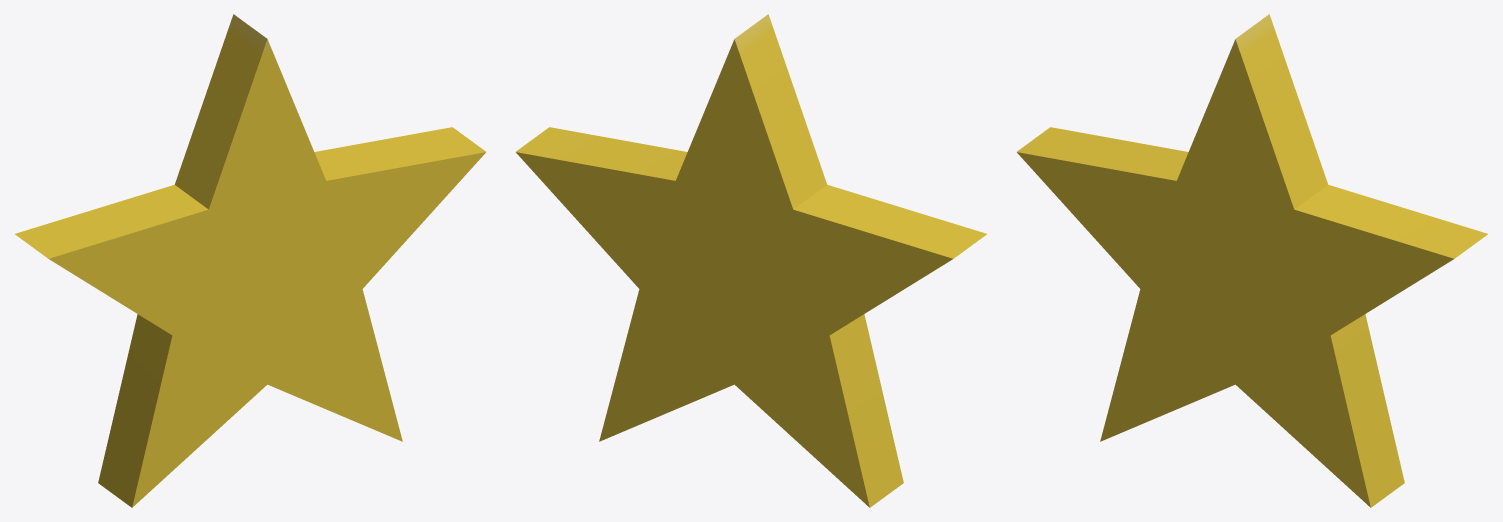
Rendered from star.FBX.
3 renders of one model, left to right at view 1: azimuth 30°, elevation 25°; view 2: azimuth 150°, elevation 25°; view 3: azimuth 330°, elevation 25°, orthographic.
Parts seen in each view (by area): view 1: Star001; view 2: Star001; view 3: Star001.
Part boxes in pixels (left/top/right/bottom): Star001: left=15, top=14, right=485, bottom=507; Star001: left=516, top=14, right=986, bottom=507; Star001: left=1017, top=14, right=1487, bottom=507.
Bounding box in the file's own units: 56.87 × 54.08 × 7.65.
